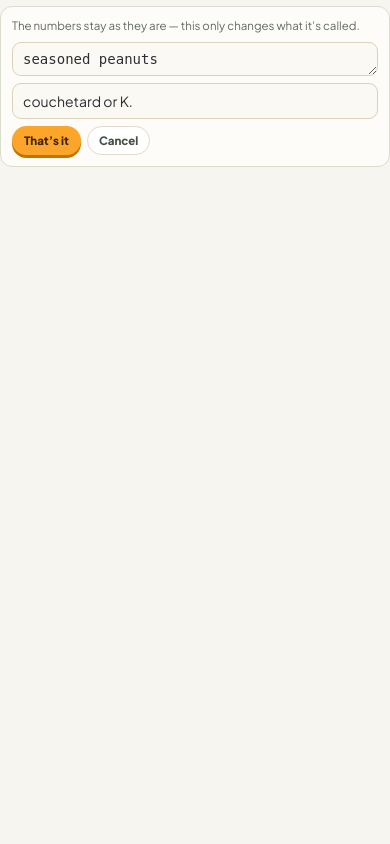
Scenario: MealItemEdit › will not save a blank name
Clear the text box named "What seasoned peanuts really was" at (195, 59), box [12, 42, 378, 76]
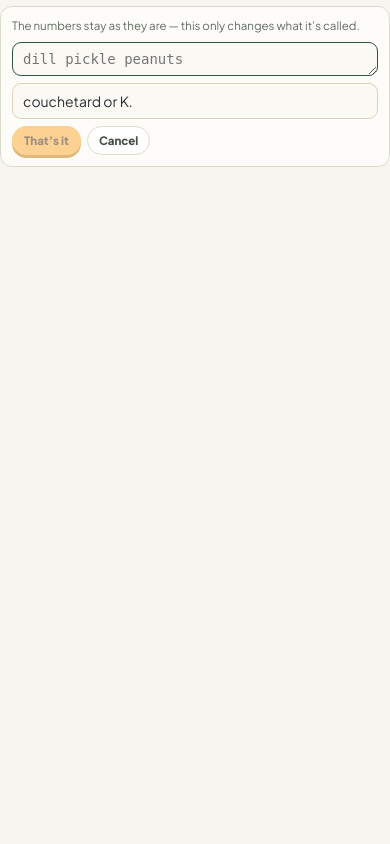
Expected: the button "That’s it" is disabled, [12, 126, 81, 155]
